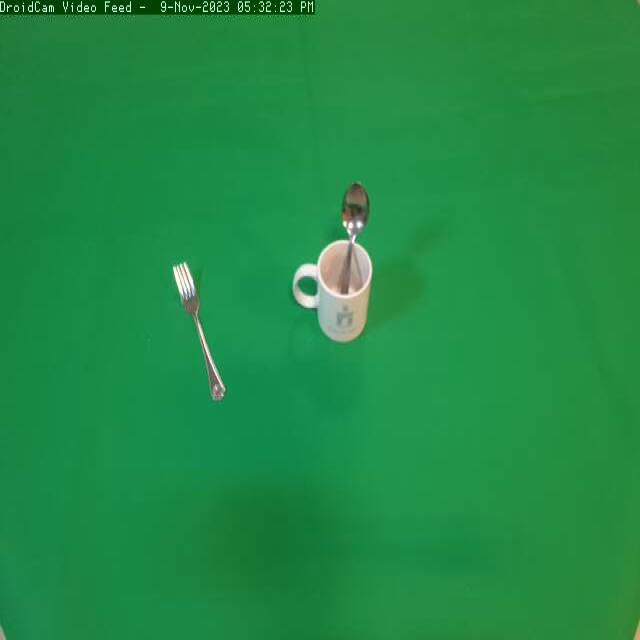cup: (293, 238, 372, 347)
fork: (166, 253, 229, 411)
spoon: (338, 174, 375, 296)
